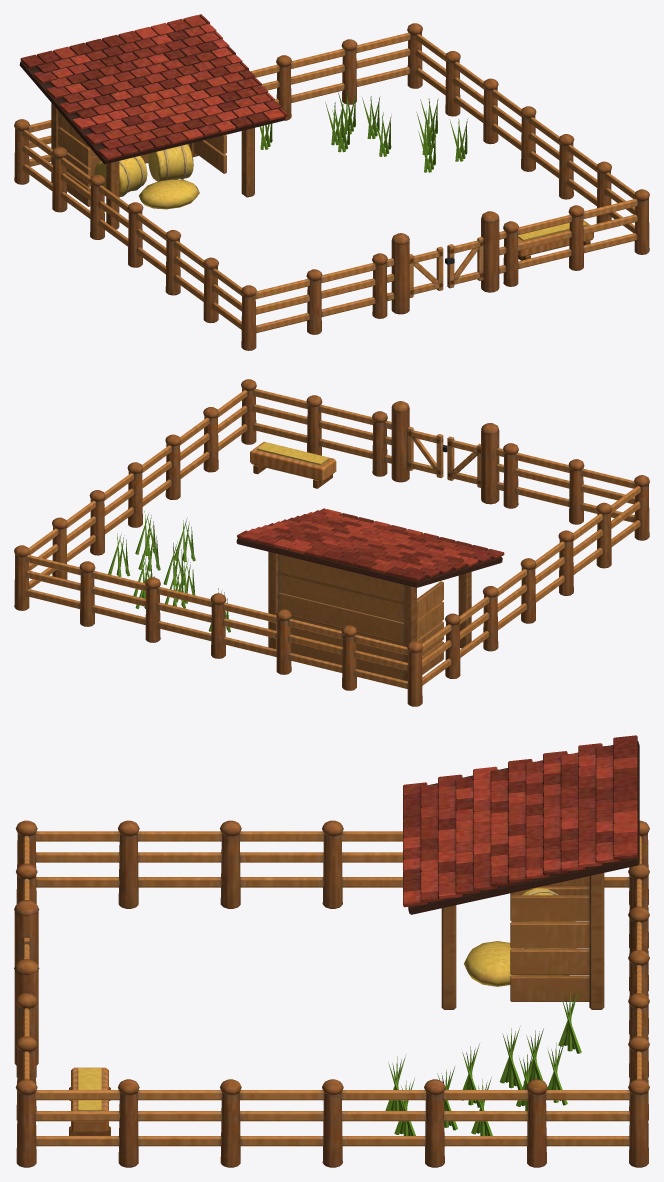
Rendered from pheasant_run.glb.
3 renders of one model, top to bottom at view 1: azimuth 30°, elevation 25°; view 2: azimuth 150°, elevation 25°; view 3: azimuth 270°, elevation 25°, orthographic. The views are drawn at different scales.
Visible parts, largest first — view 1: pheasant_run, gate1, gate0; view 2: pheasant_run, gate1, gate0; view 3: pheasant_run.
Boxes of the visible parts, box(x1,y1,x2,y2) form: pheasant_run: box(14, 14, 649, 350); gate1: box(445, 236, 483, 288); gate0: box(409, 246, 443, 297); pheasant_run: box(14, 379, 649, 706); gate1: box(407, 426, 447, 477); gate0: box(447, 436, 480, 487); pheasant_run: box(14, 735, 649, 1167).
Size of the model in its own units: 3 by 0.9345 by 3.01.
1 material, 1 textured.
